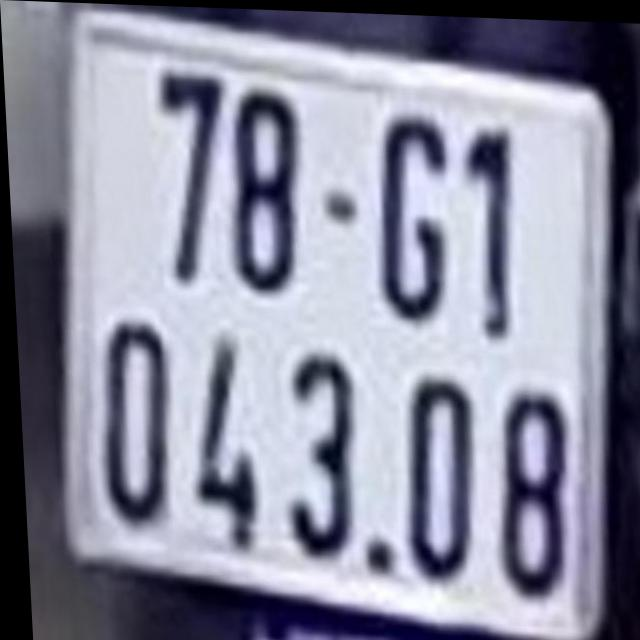0: (387, 363, 471, 581), (93, 311, 170, 522)
1: (459, 118, 514, 337)
3: (286, 354, 353, 555)
4: (178, 325, 252, 548)
7: (147, 71, 231, 290)
8: (483, 386, 567, 586), (227, 85, 295, 299)
G: (372, 101, 455, 322)
